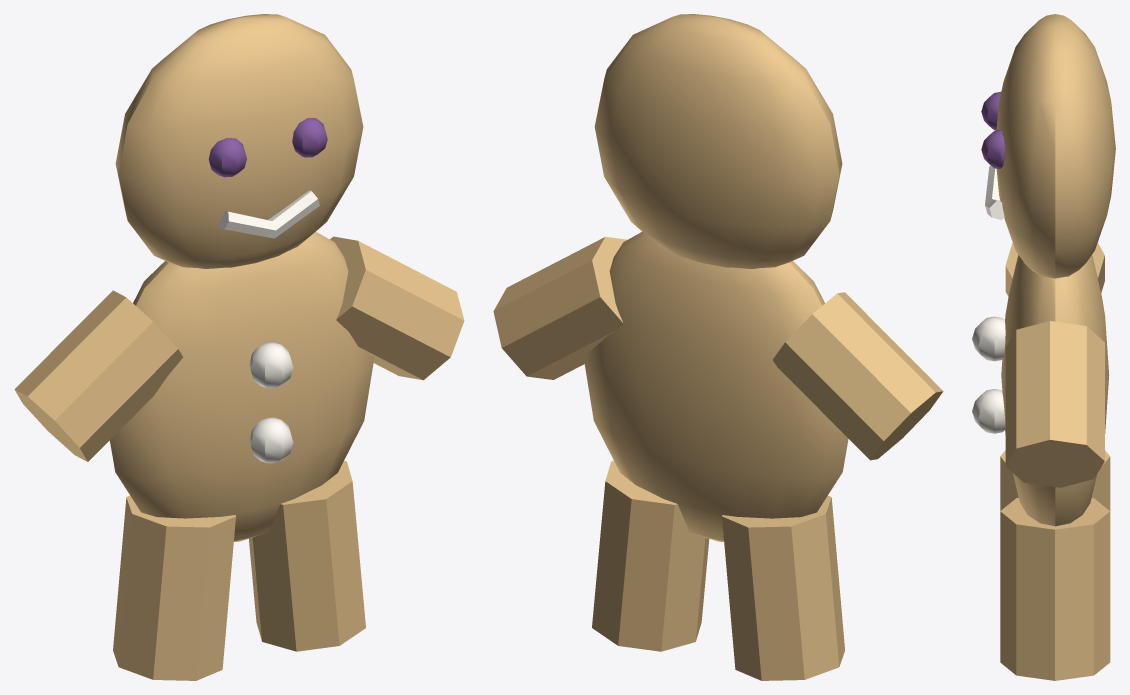
The model's file is JAR_Cookie.fbx.
3 renders of one model, left to right at view 1: azimuth 30°, elevation 25°; view 2: azimuth 150°, elevation 25°; view 3: azimuth 270°, elevation 25°, orthographic. The views are drawn at different scales.
Parts seen in each view (by area): view 1: JAR_Cookie; view 2: JAR_Cookie; view 3: JAR_Cookie.
Boxes of the visible parts, bbox=[...] form: JAR_Cookie: bbox=[14, 14, 464, 680]; JAR_Cookie: bbox=[493, 14, 943, 680]; JAR_Cookie: bbox=[972, 14, 1115, 680].
Size of the model in its own units: 0.1914 by 0.2681 by 0.0576.
